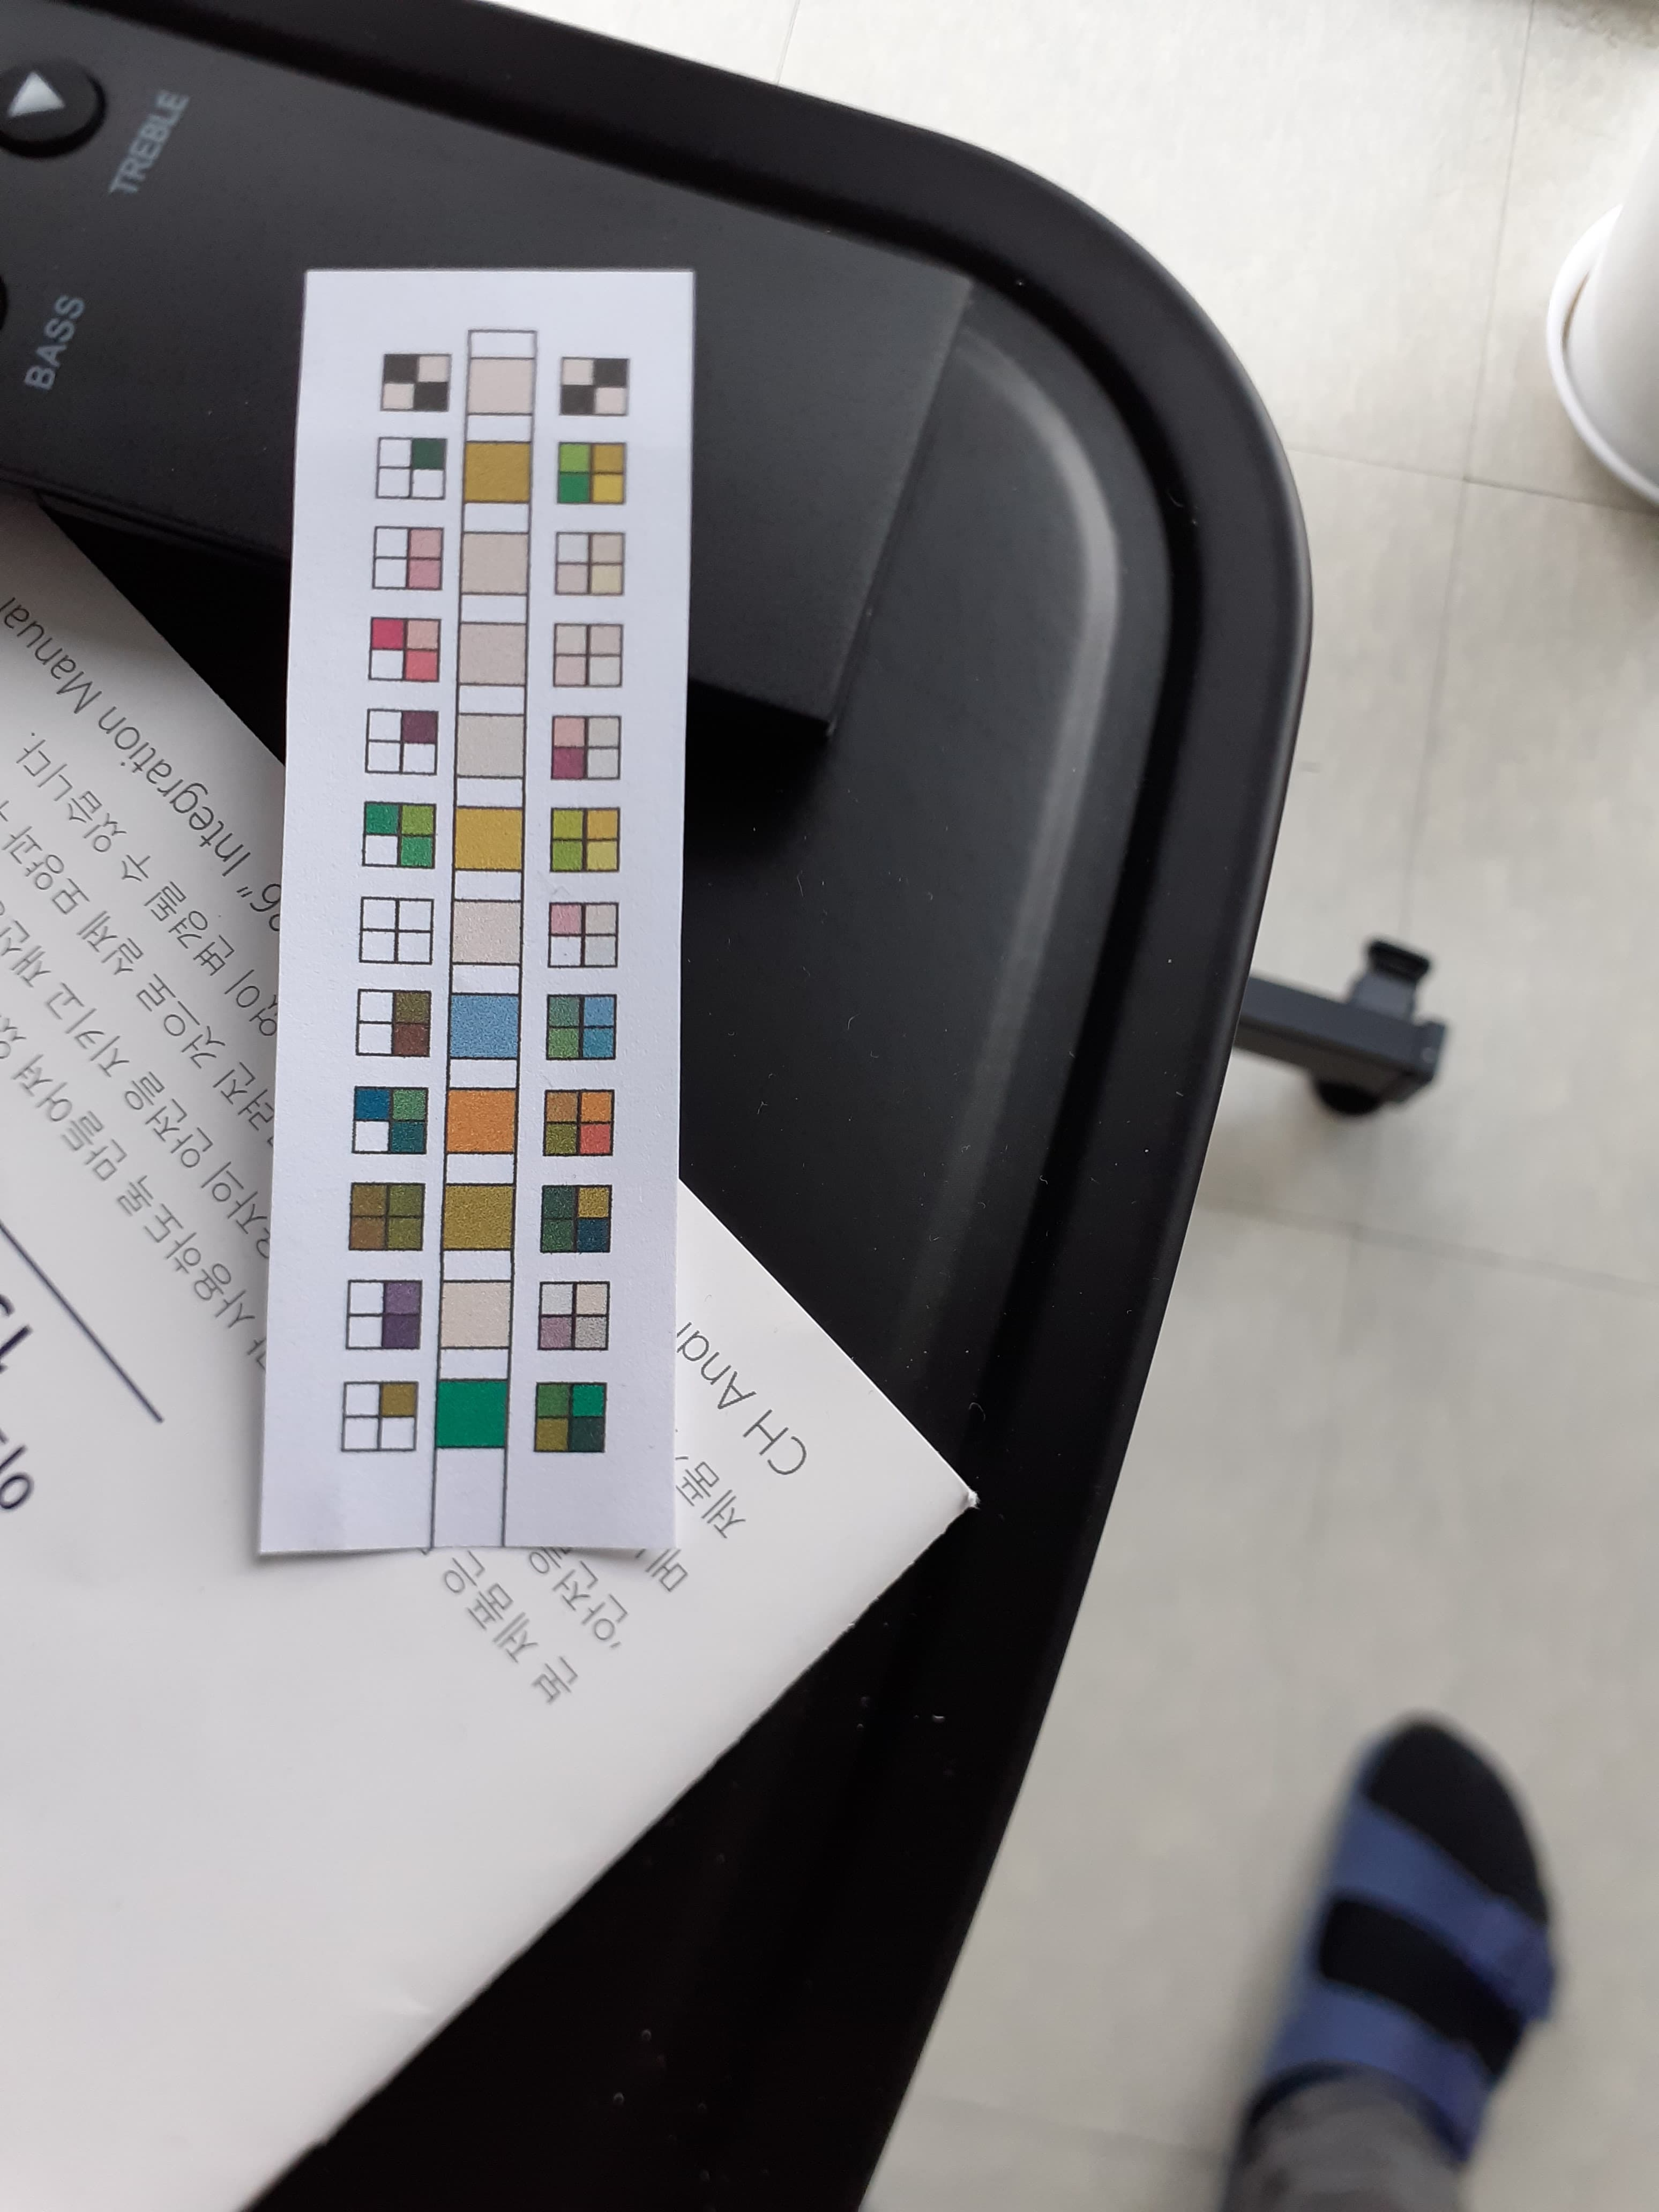tester: (300, 261, 674, 1562)
